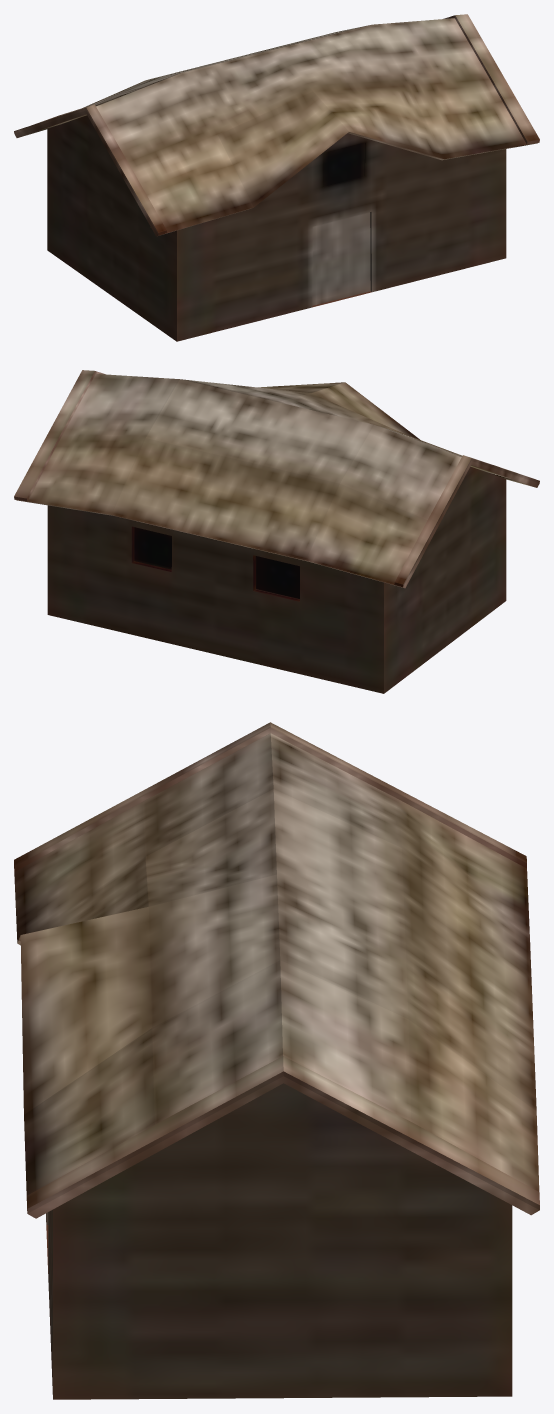
File: House3.fbx
3 renders of one model, top to bottom at view 1: azimuth 30°, elevation 25°; view 2: azimuth 150°, elevation 25°; view 3: azimuth 270°, elevation 25°, orthographic. The views are drawn at different scales.
Parts seen in each view (by area): view 1: Village.002; view 2: Village.002; view 3: Village.002.
Part boxes in pixels (x1,y1,x2,y2): Village.002: (14, 14, 539, 341); Village.002: (14, 370, 539, 693); Village.002: (14, 722, 539, 1399).
Size of the model in its own units: 581 by 293 by 373.
Materials: 1 (1 with a texture image).
